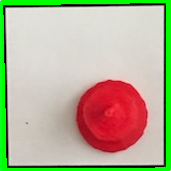Red King: (72, 75, 152, 158)
